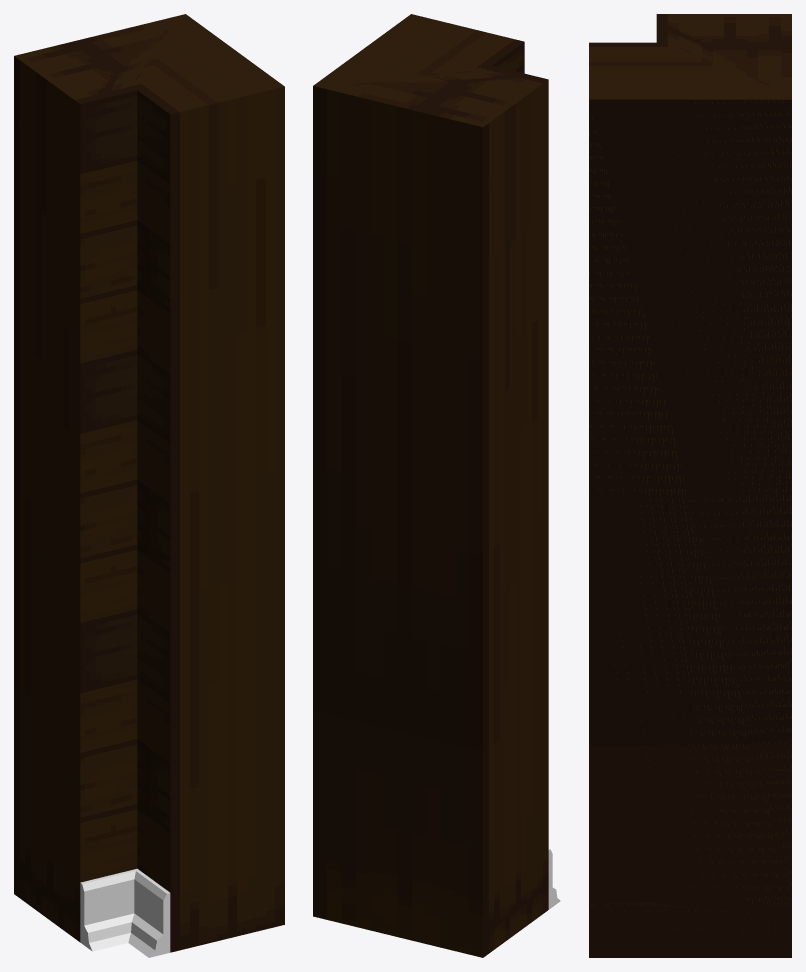
Rendered from wall_corner.glb.
3 views of the same model, side by side, from view 1: azimuth 30°, elevation 25°; view 2: azimuth 150°, elevation 25°; view 3: azimuth 270°, elevation 25° (orthographic). The views are drawn at different scales.
Visible parts, largest first — view 1: Cube.001; view 2: Cube.001; view 3: Cube.001.
Part boxes in pixels (bbox=[...]): Cube.001: bbox=[14, 14, 284, 957]; Cube.001: bbox=[313, 14, 560, 957]; Cube.001: bbox=[589, 14, 791, 957].
Size of the model in its own units: 3 by 14 by 3.
2 materials, 1 textured.
